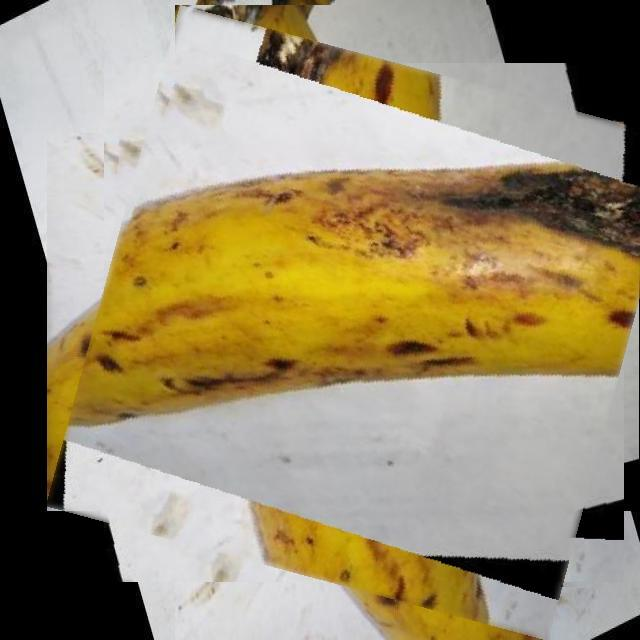Podre: (75, 34, 640, 611)
